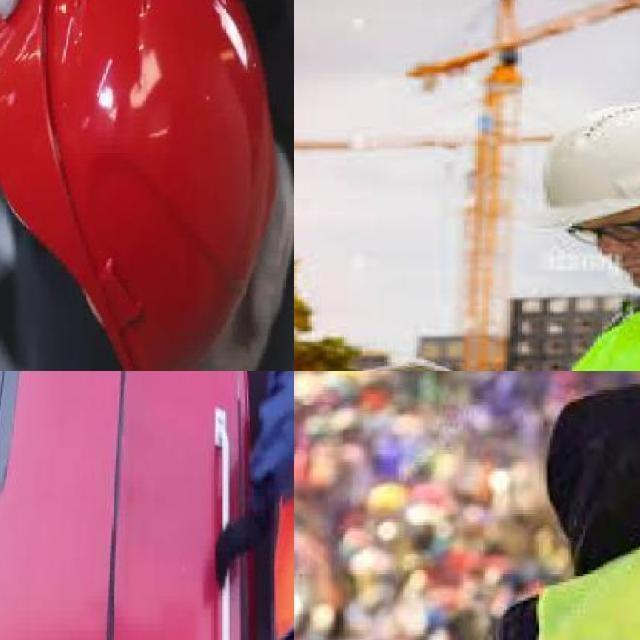apron: (195, 131, 294, 371), (0, 0, 45, 176), (214, 508, 268, 582)
